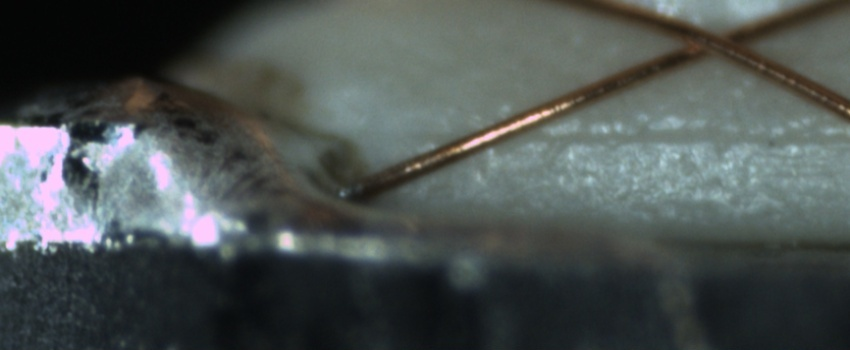CL: (666, 14, 760, 68)
DL: (423, 104, 850, 167)
